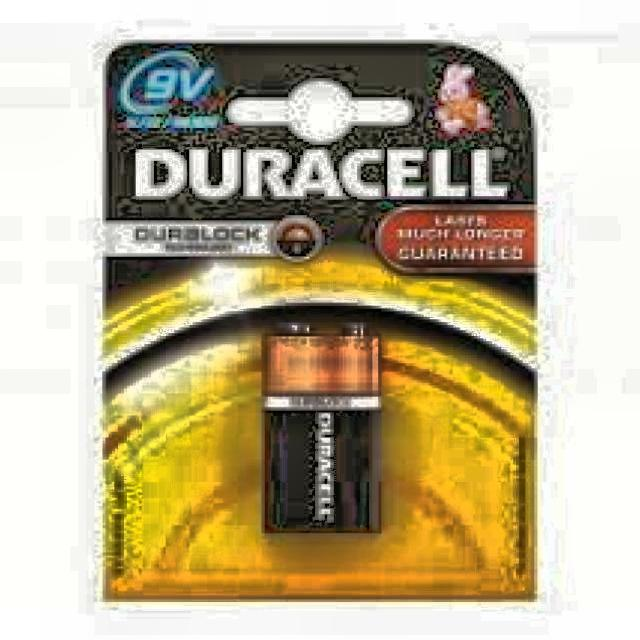Non-Valuable Waste - Batteries: (103, 40, 540, 599), (263, 322, 382, 532)
